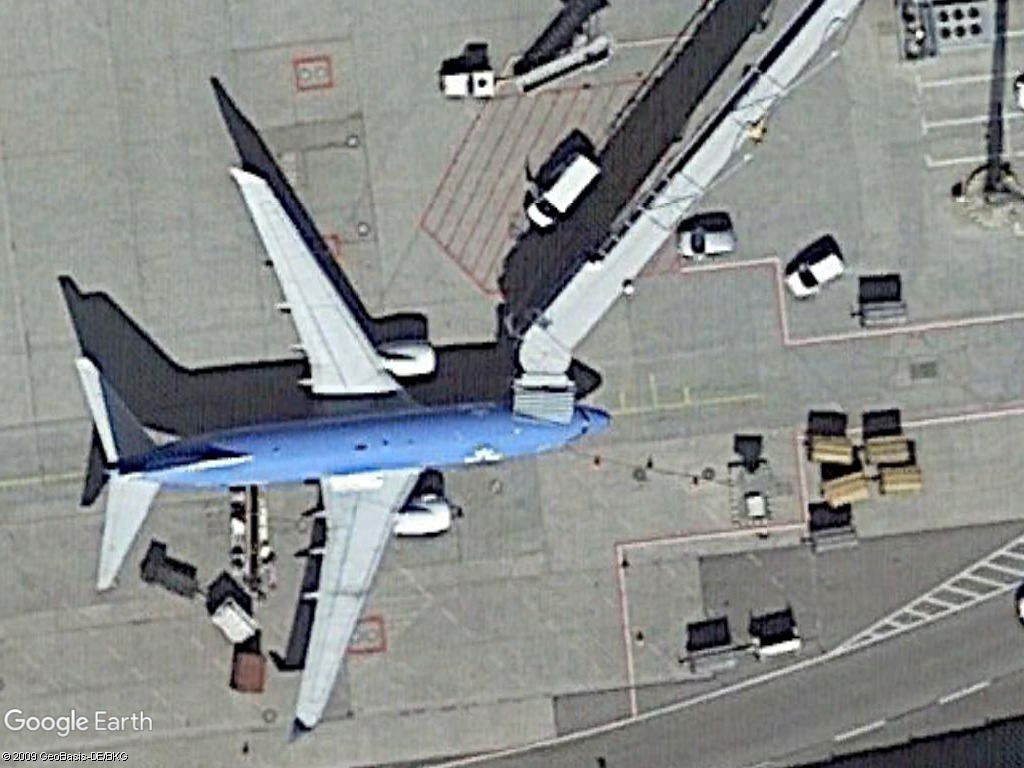airliner: (57, 159, 623, 743)
van: (521, 149, 606, 236)
